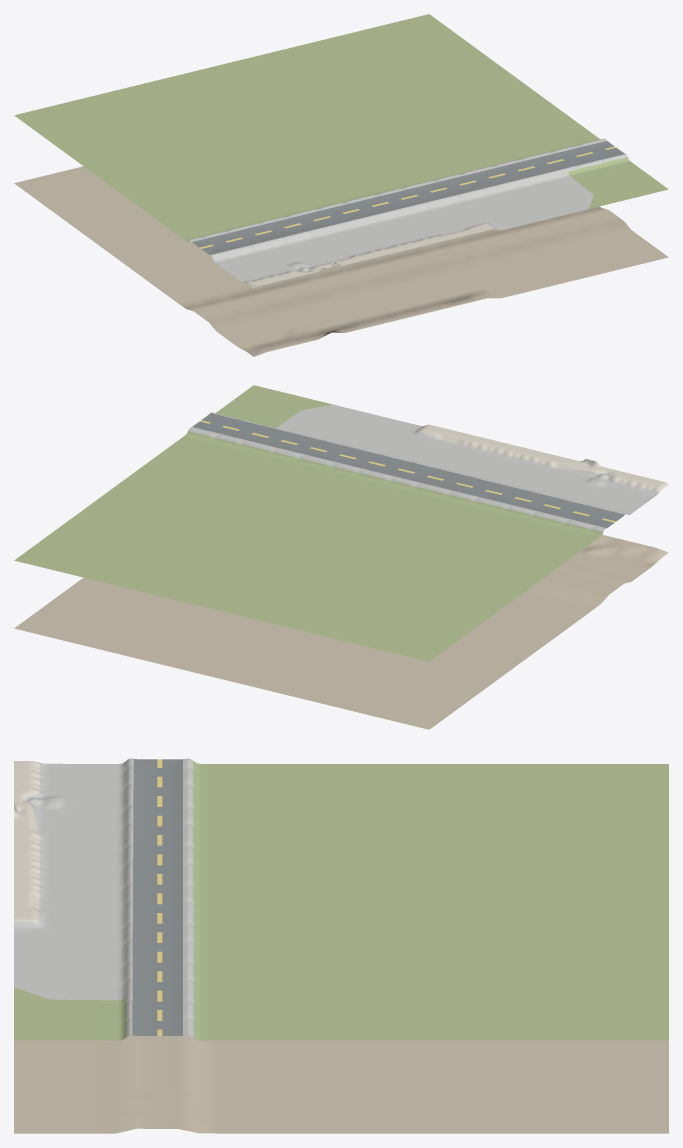
3 renders of one model, top to bottom at view 1: azimuth 30°, elevation 25°; view 2: azimuth 150°, elevation 25°; view 3: azimuth 270°, elevation 25°, orthographic. The views are drawn at different scales.
Parts seen in each view (by area): view 1: s_-9_-5__grass, s_-9_-5__soil, s_-9_-5__stone_paving, s_-9_-5__asphalt, s_-9_-5__paving, s_-9_-5__yellow_marking; view 2: s_-9_-5__grass, s_-9_-5__soil, s_-9_-5__stone_paving, s_-9_-5__asphalt, s_-9_-5__paving, s_-9_-5__yellow_marking; view 3: s_-9_-5__grass, s_-9_-5__soil, s_-9_-5__stone_paving, s_-9_-5__asphalt, s_-9_-5__paving, s_-9_-5__yellow_marking.
Boxes of the visible parts, box(x1,y1,x2,y2) form: s_-9_-5__grass: box(14, 14, 668, 241); s_-9_-5__soil: box(14, 166, 668, 356); s_-9_-5__stone_paving: box(189, 138, 627, 282); s_-9_-5__asphalt: box(192, 141, 625, 254); s_-9_-5__paving: box(245, 223, 494, 288); s_-9_-5__yellow_marking: box(200, 146, 615, 248); s_-9_-5__grass: box(14, 385, 603, 661); s_-9_-5__soil: box(14, 534, 668, 729); s_-9_-5__stone_paving: box(188, 404, 659, 531); s_-9_-5__asphalt: box(192, 413, 624, 527); s_-9_-5__paving: box(418, 424, 668, 491); s_-9_-5__yellow_marking: box(199, 420, 615, 522); s_-9_-5__grass: box(14, 761, 668, 1040); s_-9_-5__soil: box(14, 1035, 668, 1133); s_-9_-5__stone_paving: box(14, 758, 193, 1037); s_-9_-5__asphalt: box(132, 759, 182, 1035); s_-9_-5__paving: box(14, 761, 39, 922); s_-9_-5__yellow_marking: box(157, 759, 162, 1035).
Bounding box in the file's own units: 128 × 22.23 × 128.
